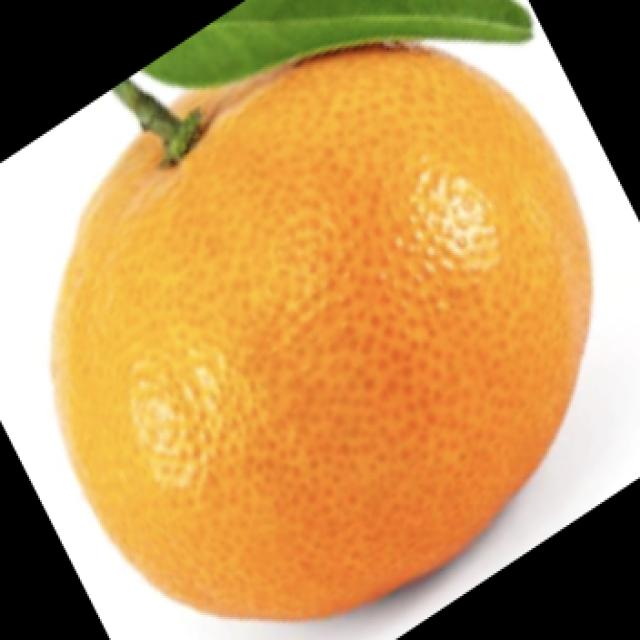matang: (58, 42, 588, 616)
